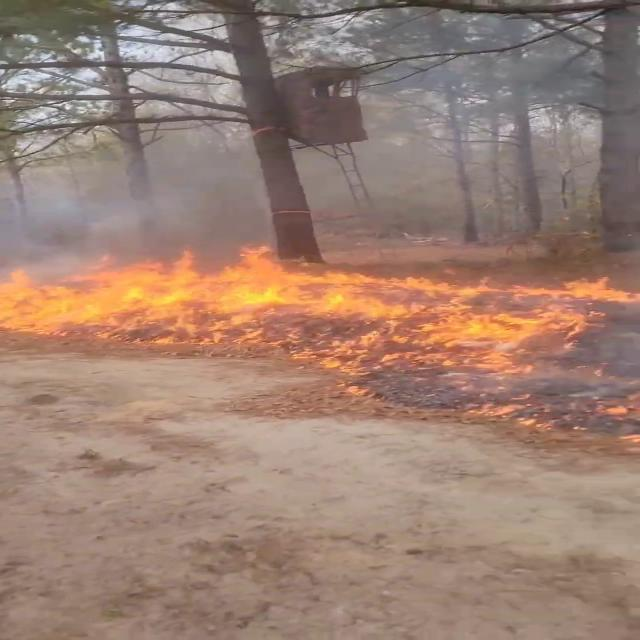Fire: (1, 243, 637, 384)
Smoke: (29, 0, 636, 226)
